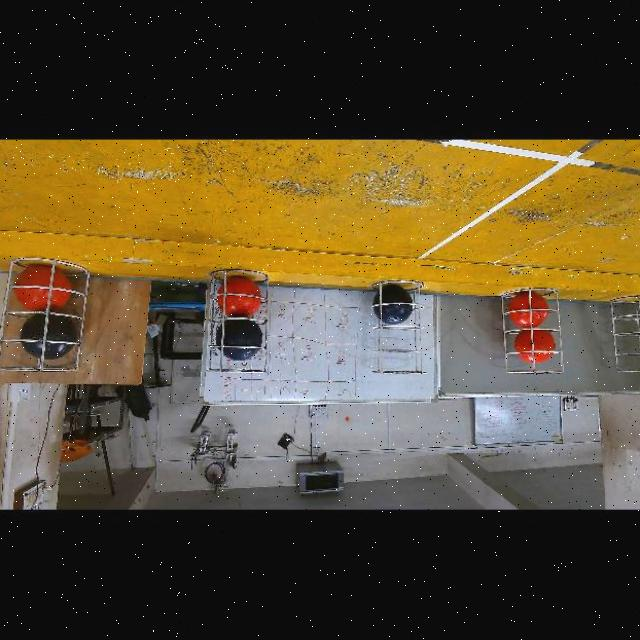P: (20, 315, 78, 360), (216, 320, 263, 363), (373, 284, 414, 325)
R: (14, 265, 73, 313), (221, 276, 261, 319), (508, 292, 549, 328), (515, 331, 557, 363)
S: (0, 262, 84, 376), (204, 265, 276, 381), (500, 282, 562, 383), (370, 280, 428, 376), (610, 288, 640, 372)
